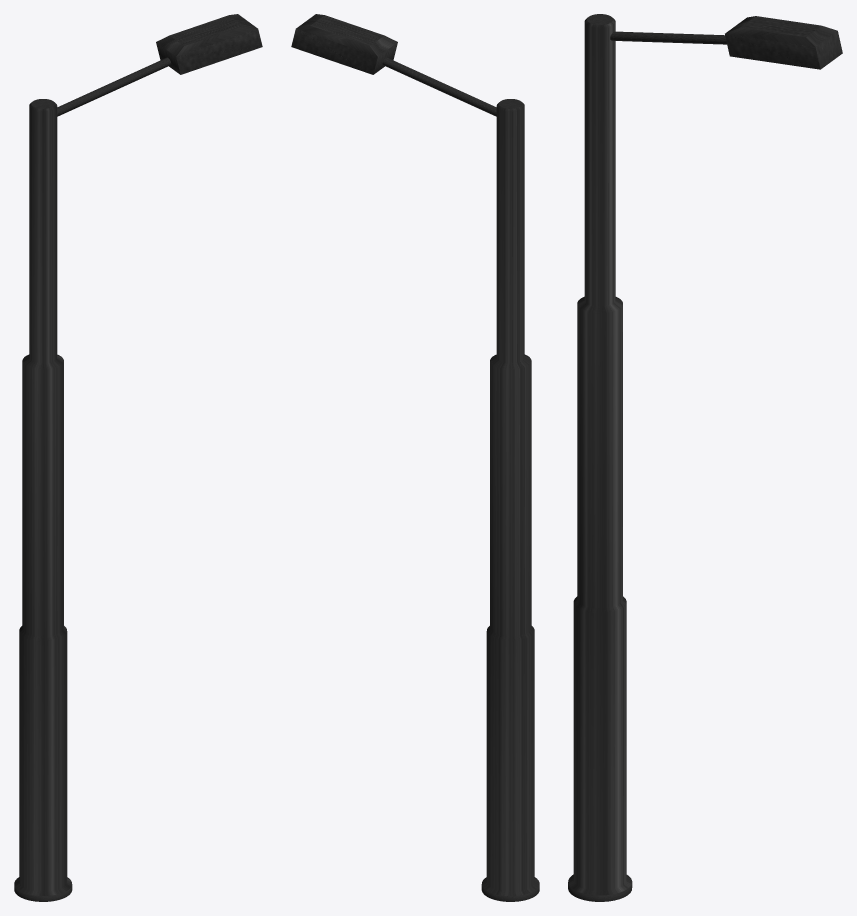
The model's file is LamparadeCalle.obj.
The picture shows the model from 3 angles, left to right: view 1: azimuth 30°, elevation 25°; view 2: azimuth 150°, elevation 25°; view 3: azimuth 330°, elevation 25°; orthographic projection. The views are drawn at different scales.
Visible parts, largest first — view 1: Cilindro; view 2: Cilindro; view 3: Cilindro.
Part boxes in pixels (x1,y1,x2,y2): Cilindro: (14, 14, 262, 901); Cilindro: (291, 14, 539, 901); Cilindro: (568, 14, 842, 901).
Bounding box in the file's own units: 9.33 × 31.23 × 2.
1 material, 1 textured.
